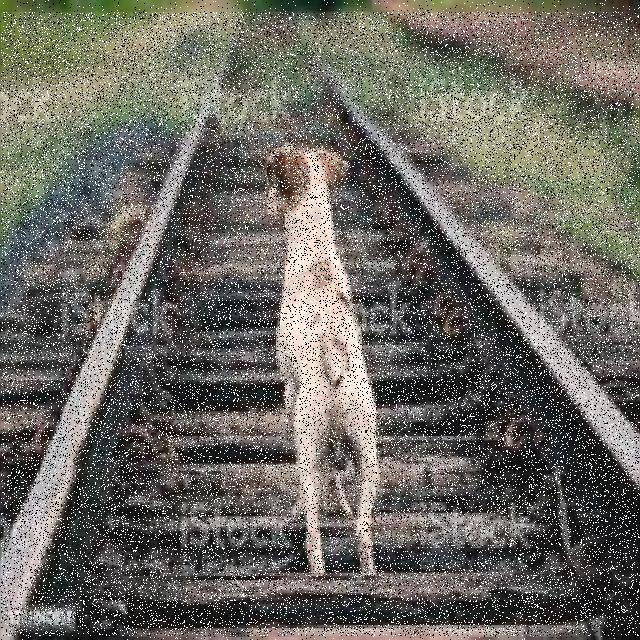rail: (2, 14, 640, 637)
